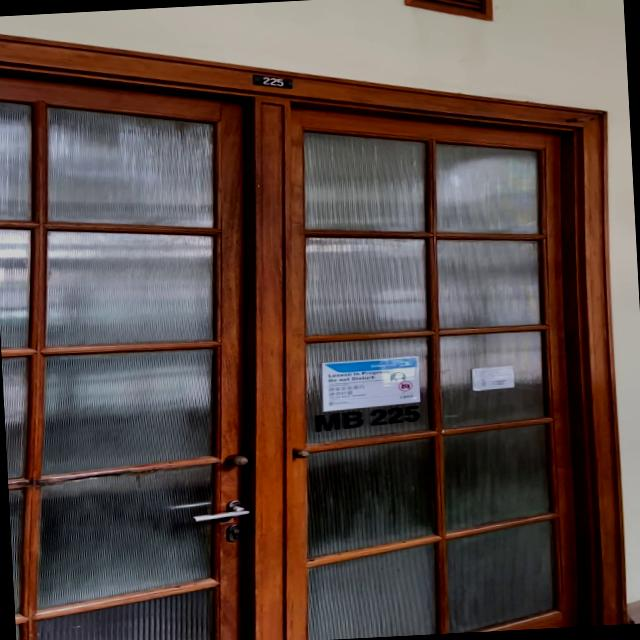room225: (250, 70, 296, 92)
room225Window: (310, 404, 424, 435)
